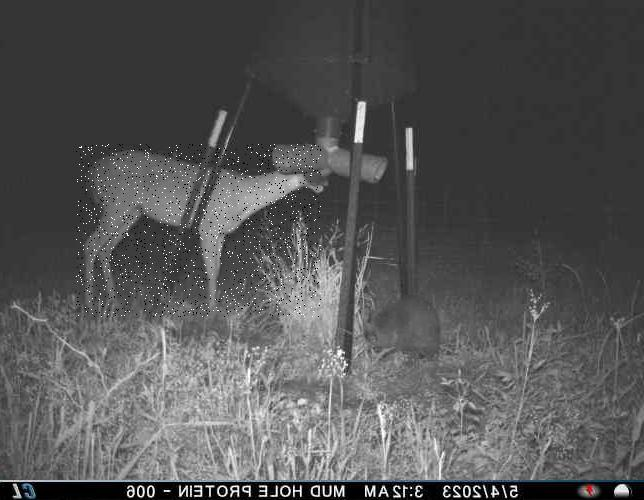Deer: (75, 145, 320, 318)
Raccoon: (358, 294, 442, 366)
